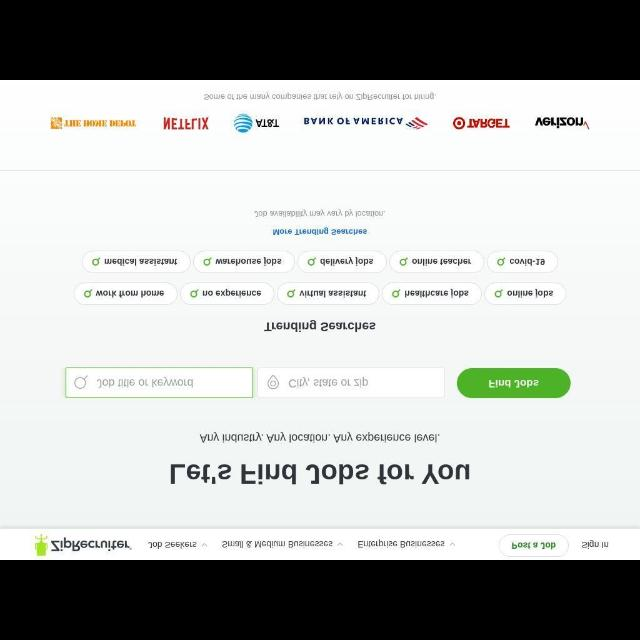icon: (74, 373, 90, 389), (266, 375, 280, 389), (286, 286, 296, 298), (392, 288, 402, 298), (495, 288, 505, 298), (190, 286, 198, 298), (399, 256, 408, 266), (84, 287, 92, 297), (204, 256, 212, 266), (308, 256, 316, 266), (92, 258, 100, 266), (497, 257, 505, 265), (200, 542, 210, 548), (336, 542, 344, 548), (449, 540, 455, 548)
image: (36, 531, 132, 557), (302, 113, 428, 129), (51, 115, 137, 129), (534, 114, 590, 130), (234, 114, 280, 132), (452, 116, 510, 130), (163, 116, 210, 130)
input: (67, 368, 253, 398), (259, 368, 445, 398)
spinner: (222, 536, 346, 550), (358, 536, 457, 550), (146, 535, 212, 551)
text: (170, 461, 470, 485), (200, 432, 442, 443), (204, 91, 438, 101), (264, 322, 376, 334), (254, 209, 386, 219), (288, 375, 370, 389), (274, 226, 368, 238), (222, 537, 334, 547), (98, 377, 194, 388), (358, 538, 444, 548), (217, 254, 283, 266), (96, 287, 166, 297), (300, 288, 366, 298), (404, 288, 470, 298), (147, 537, 197, 549), (412, 256, 472, 266), (203, 288, 261, 298), (320, 256, 374, 266), (489, 378, 539, 388), (510, 540, 558, 550), (104, 258, 178, 264), (507, 290, 553, 298), (510, 256, 544, 266), (580, 541, 610, 549)
textbutton: (458, 368, 570, 397), (500, 534, 568, 556)
toolbar: (1, 530, 639, 560)
